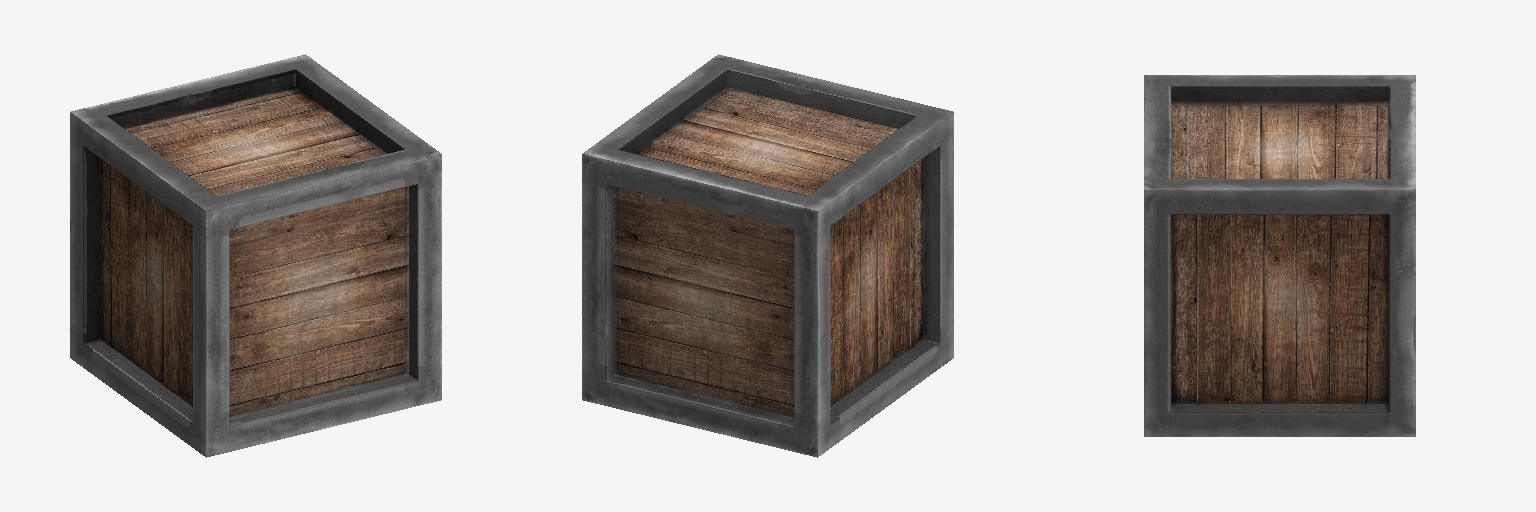
The picture shows the model from 3 angles: view 1: azimuth 30°, elevation 25°; view 2: azimuth 150°, elevation 25°; view 3: azimuth 270°, elevation 25°; orthographic projection.
Visible parts, largest first — view 1: Cube.002; view 2: Cube.002; view 3: Cube.002.
Boxes of the visible parts, x1=… form: Cube.002: x1=70, y1=54, x2=441, y2=457; Cube.002: x1=582, y1=54, x2=953, y2=457; Cube.002: x1=1144, y1=75, x2=1415, y2=436.
Bounding box in the file's own units: 0.2923 × 0.2923 × 0.2923.
Materials: 1 (1 with a texture image).